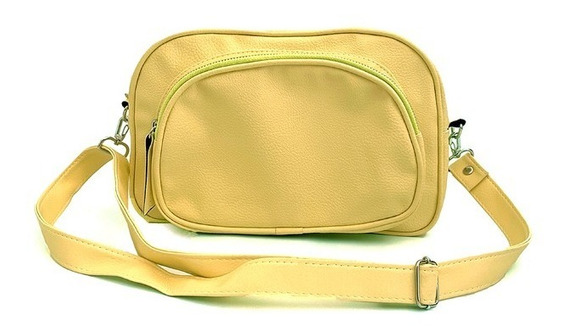cartera: (31, 26, 532, 309)
